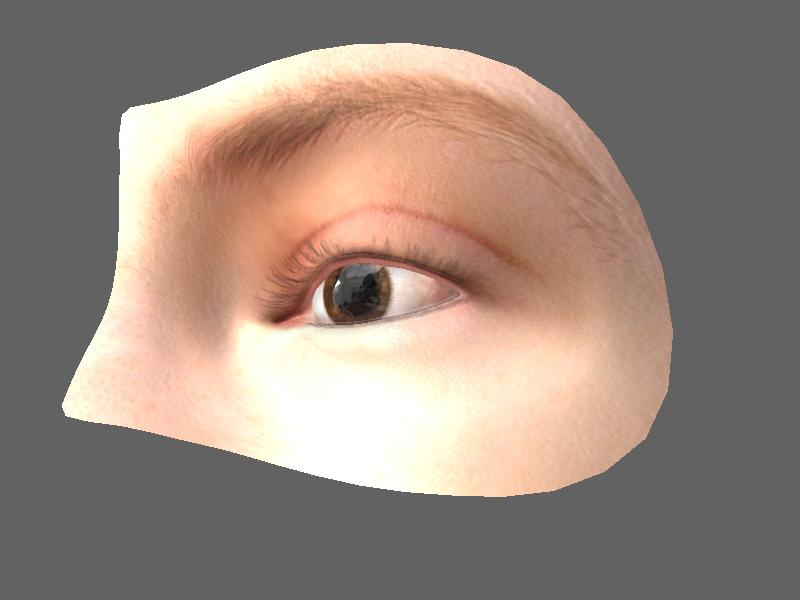iris: (322, 259, 393, 326)
